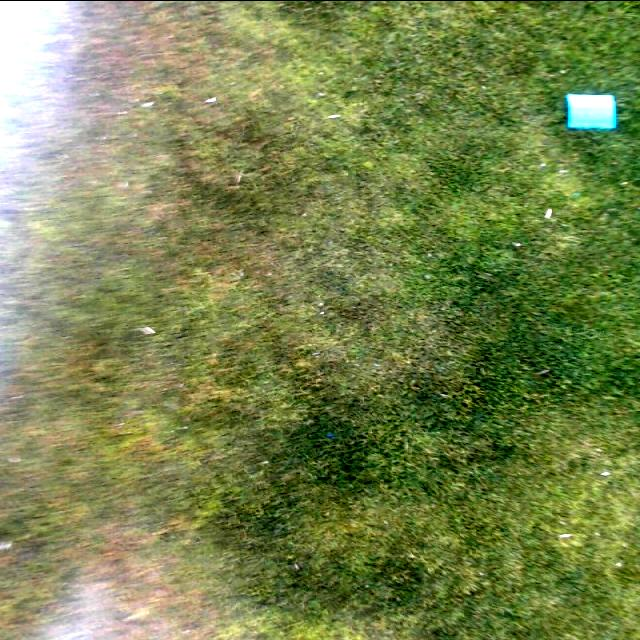blue_square: (568, 94, 613, 127)
